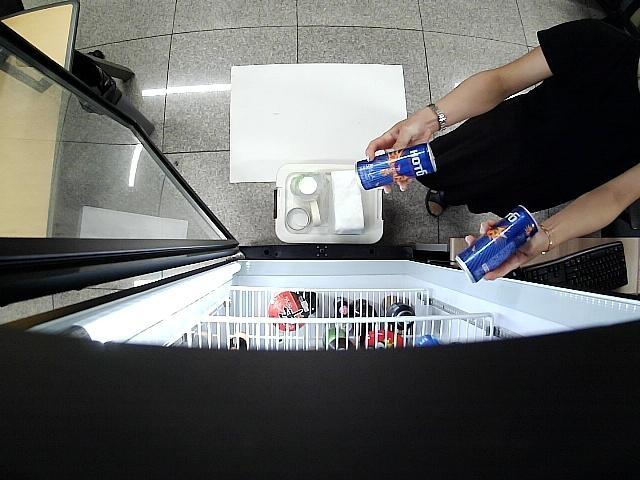16_hot6: (452, 203, 541, 285), (355, 143, 439, 191)
